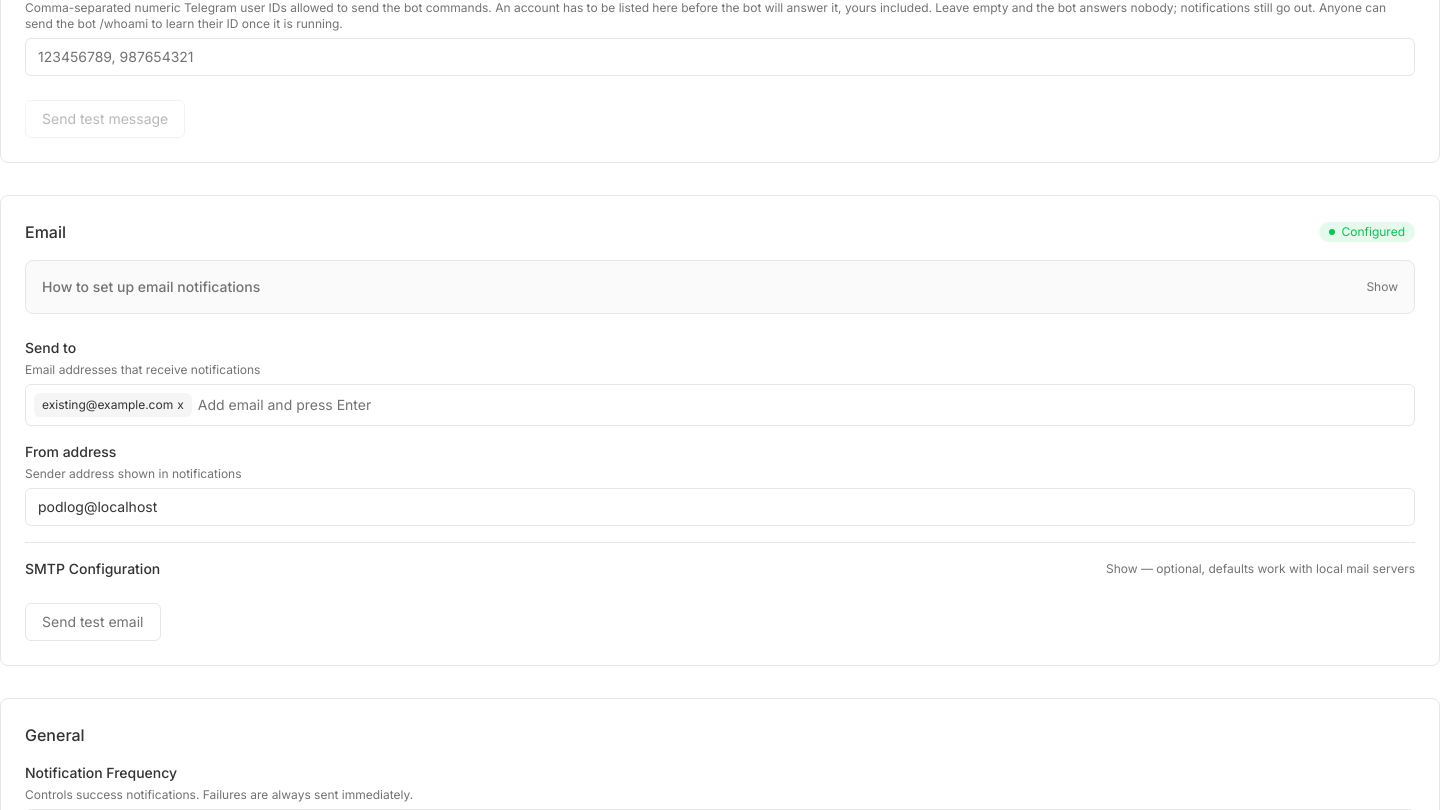
Email tag input › removes an email when X is clicked
The image size is (1440, 810).
(page scrolled)
expect the text "existing@example.com" is shown: met, box [42, 397, 173, 412]
What coordinates should you click on to do the following:
click the button named "remove existing@example.com"
I would click on:
 (180, 405)
Its box is [177, 399, 184, 411].
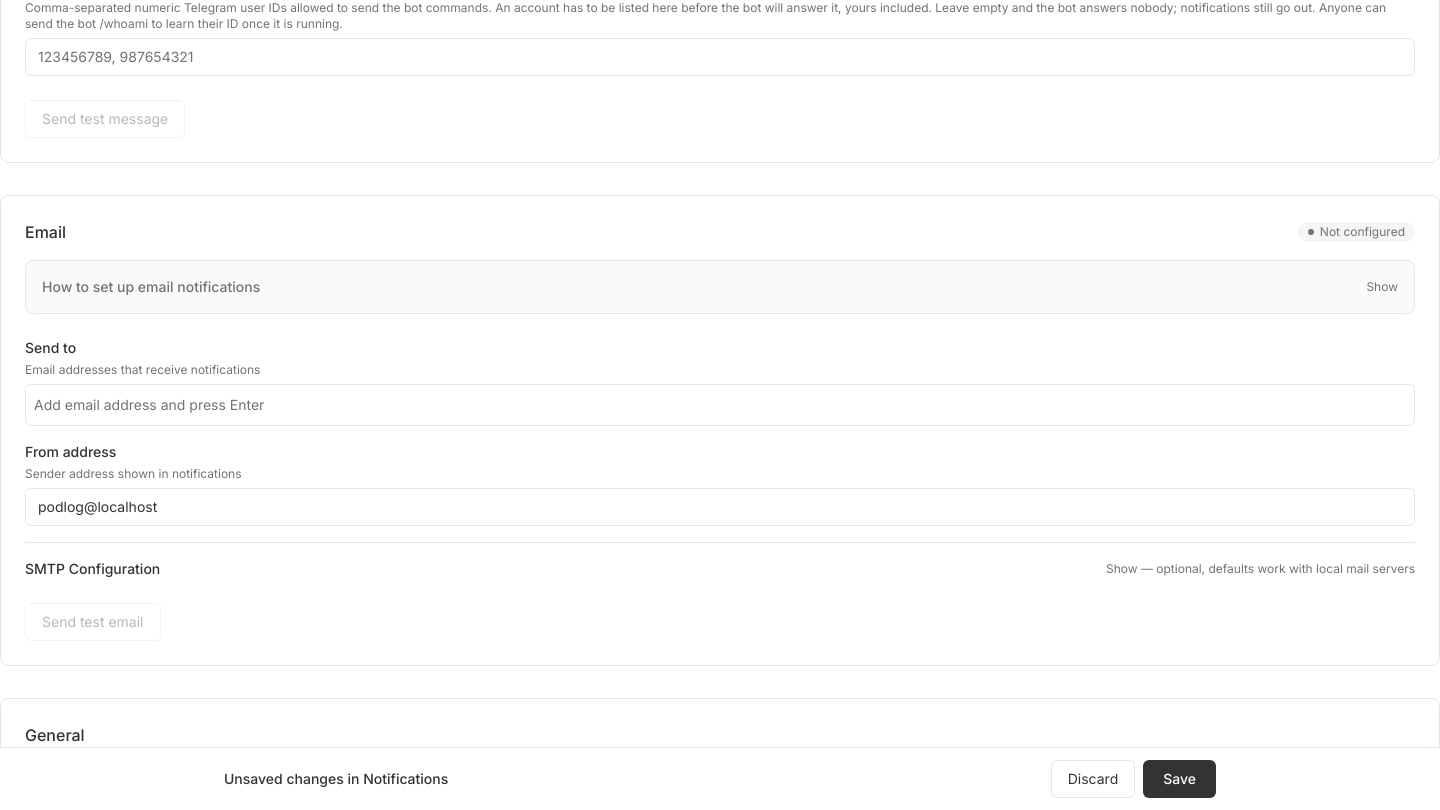
expect the text "existing@example.com" is gone: met
